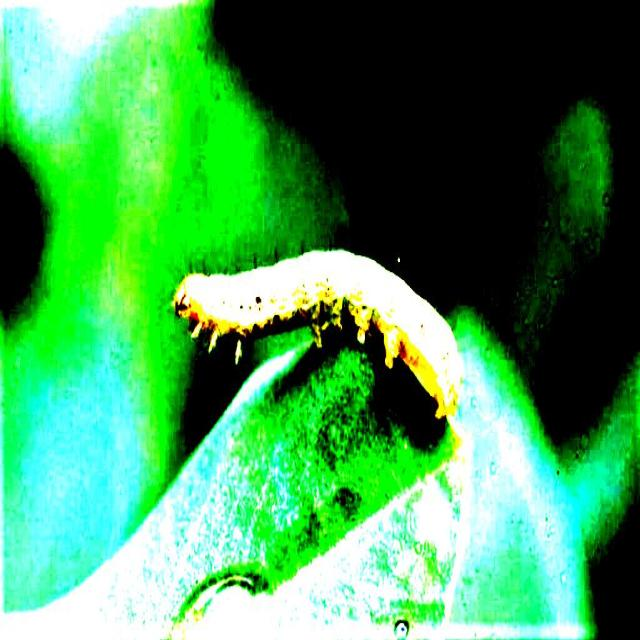Armyworm: (148, 229, 482, 495)
